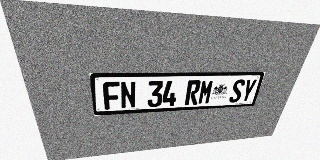3: (147, 81, 163, 107)
4: (162, 80, 178, 107)
F: (102, 82, 120, 110)
M: (197, 80, 215, 105)
N: (120, 81, 136, 109)
R: (184, 80, 201, 105)
S: (228, 79, 246, 103)
Y: (239, 79, 258, 102)
